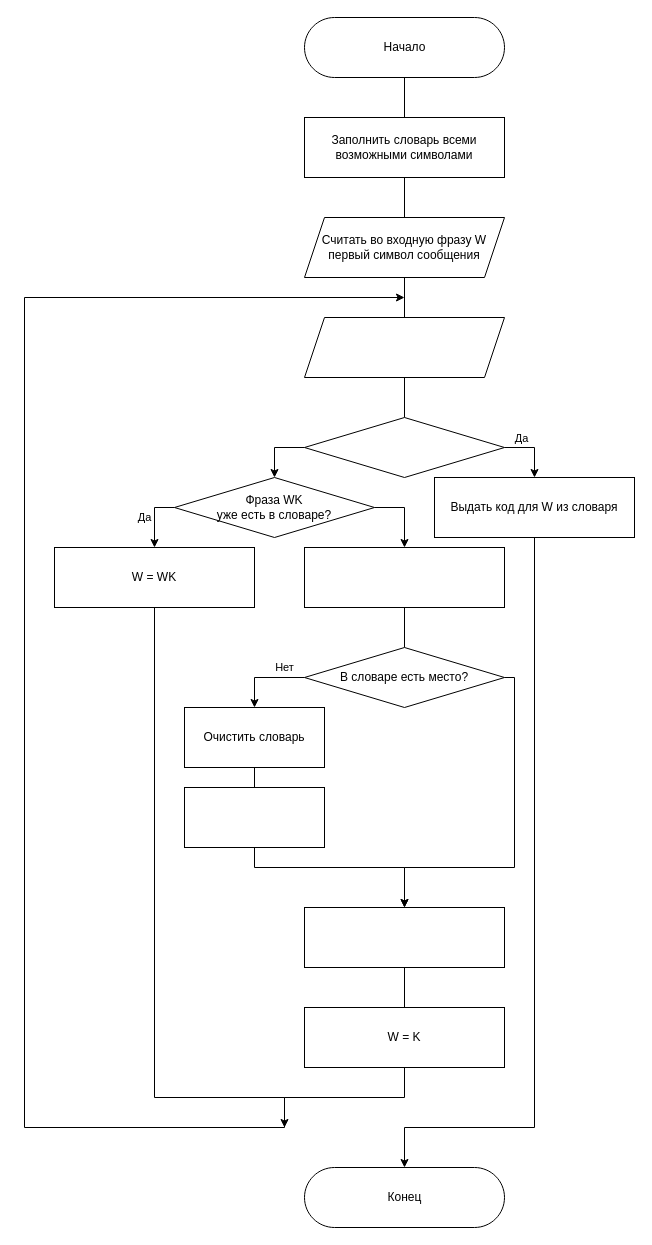
Some shapes in this 652 by 1245 pixel diagram are drawn without their labels. Here are the shapes that lost their labels. From the top down, the centre of each, then its label:
point (404, 347): Считать очередной символ K из собщения
point (404, 447): K - символ конца сообщения?
point (404, 577): Выдать код для W
point (254, 817): Выдать код сброса словаря
point (404, 937): Добавить WK в словарь
